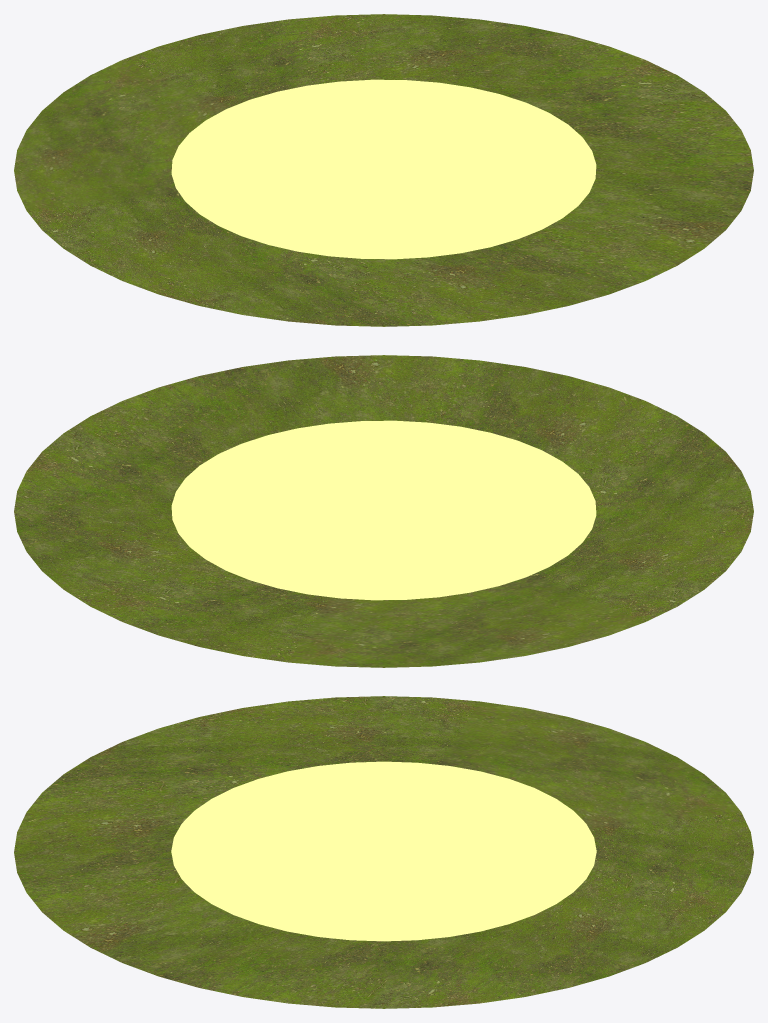
Rendered from pool.gltf.
3 renders of one model, top to bottom at view 1: azimuth 30°, elevation 25°; view 2: azimuth 150°, elevation 25°; view 3: azimuth 270°, elevation 25°, orthographic.
Bounding box in the file's own units: 40 × 0.06 × 40.
Materials: 2 (1 with a texture image).
